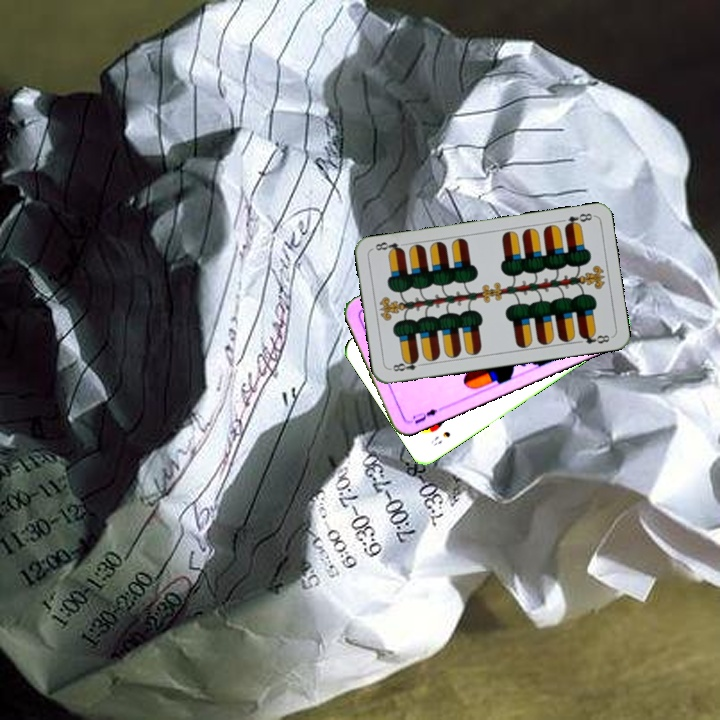E8: (560, 209, 596, 231), (387, 355, 427, 374)
EU: (405, 402, 444, 427)
S8: (427, 427, 453, 448)
